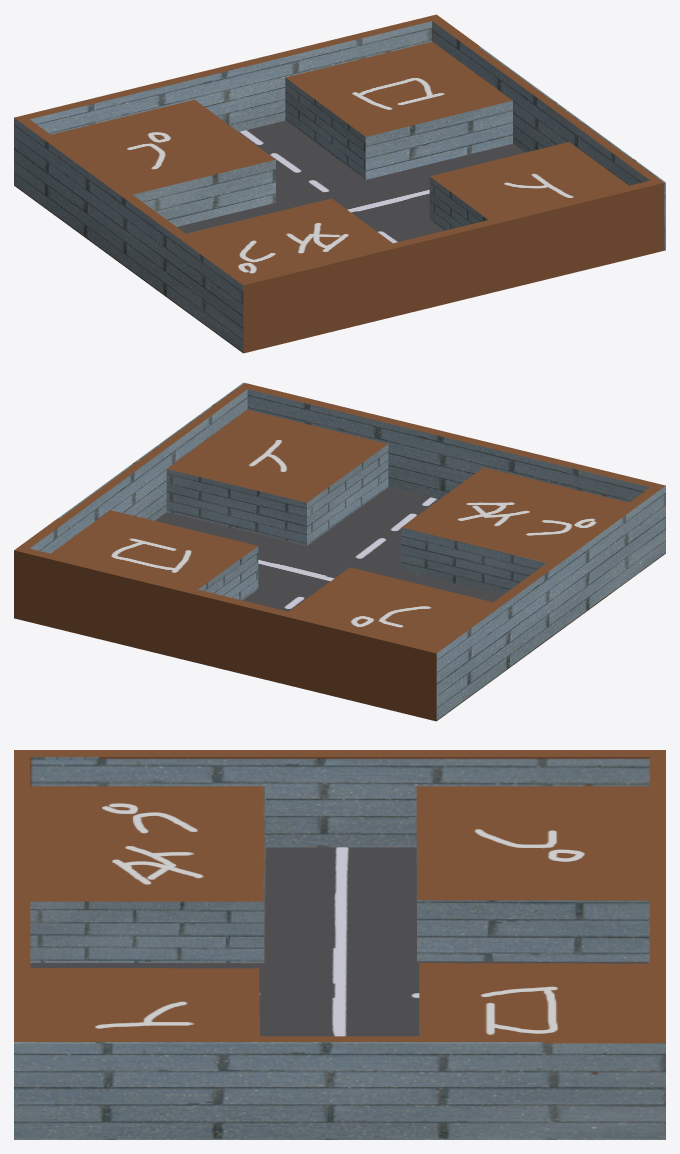
Rendered from protmap.FBX.
3 views of the same model, one above another, from view 1: azimuth 30°, elevation 25°; view 2: azimuth 150°, elevation 25°; view 3: azimuth 270°, elevation 25° (orthographic). The views are drawn at different scales.
Parts seen in each view (by area): view 1: Box001; view 2: Box001; view 3: Box001.
Boxes of the visible parts, x1,y1,x2,y2 form: Box001: (14, 14, 665, 353); Box001: (14, 382, 665, 721); Box001: (14, 750, 665, 1139).
Size of the model in its own units: 132 by 20.32 by 124.
